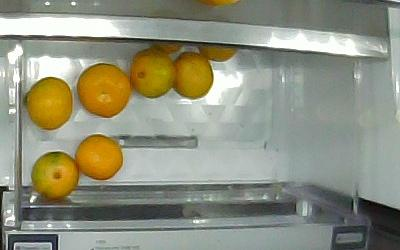tangerine: (76, 63, 131, 117), (24, 76, 73, 131), (75, 133, 124, 181), (130, 48, 175, 99), (31, 152, 78, 200), (175, 50, 213, 100), (200, 43, 241, 62), (149, 40, 184, 56)
